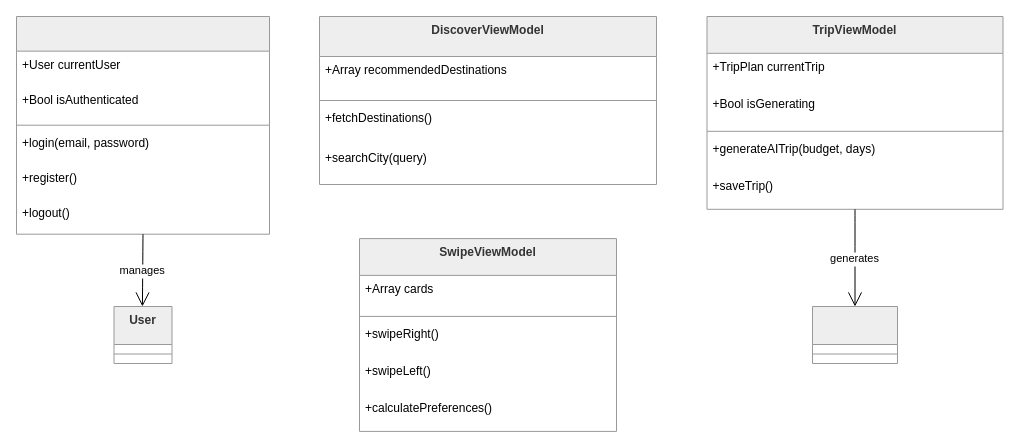
The diagram is 1019 pixels wide and 448 high, and some of its shapes have lost their labels. The box of each missing label's shape, as (x1, y1, x2, y2) in pixels:
AuthViewModel: (16, 16, 270, 234)
TripPlan: (812, 306, 898, 364)
